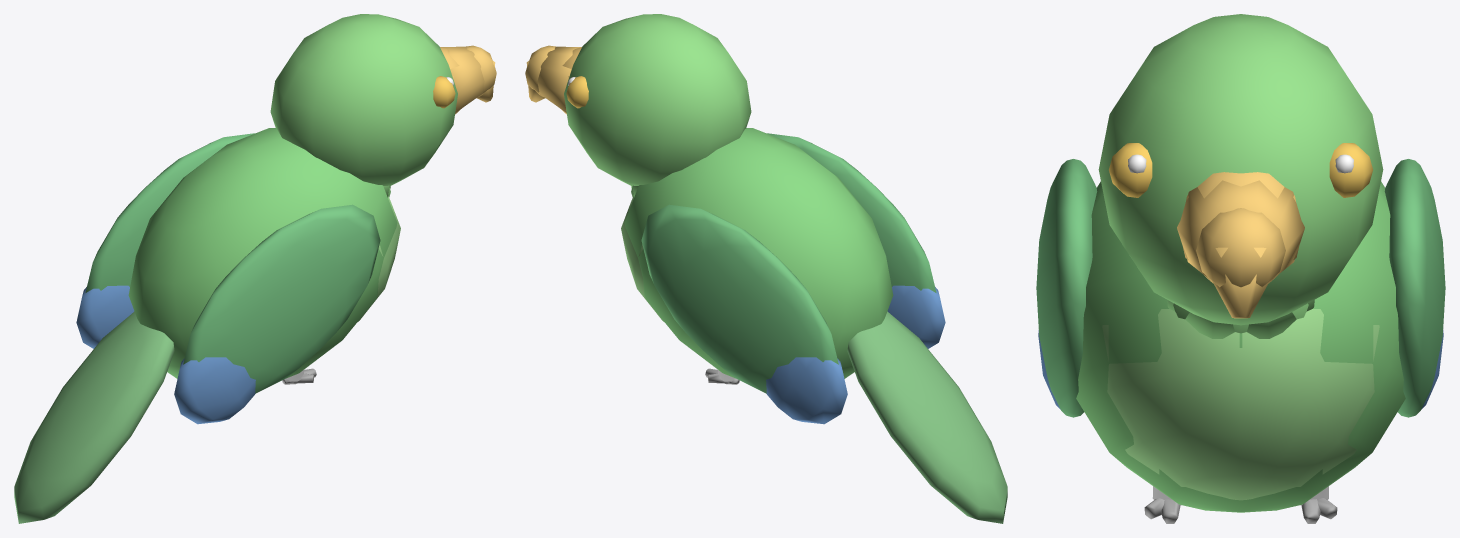
Rendered from papuan-eclectus.glb.
The picture shows the model from 3 angles, left to right: view 1: azimuth 30°, elevation 25°; view 2: azimuth 150°, elevation 25°; view 3: azimuth 270°, elevation 25°; orthographic projection. The views are drawn at different scales.
Parts seen in each view (by area): view 1: e, e.009, e.002, e.004; view 2: e, e.009, e.004, e.002; view 3: e.009, e, e.002, e.004, e.007, limb, limb.004.
Boxes of the visible parts, left/top/right/bottom form: e: left=14, top=128, right=400, bottom=523; e.009: left=270, top=14, right=496, bottom=186; e.002: left=174, top=204, right=380, bottom=424; e.004: left=76, top=133, right=254, bottom=348; e: left=621, top=128, right=1007, bottom=523; e.009: left=525, top=14, right=751, bottom=186; e.004: left=641, top=204, right=847, bottom=424; e.002: left=767, top=133, right=945, bottom=348; e.009: left=1098, top=14, right=1383, bottom=325; e: left=1076, top=181, right=1405, bottom=512; e.002: left=1036, top=159, right=1097, bottom=417; e.004: left=1384, top=159, right=1445, bottom=417; e.007: left=1167, top=300, right=1314, bottom=338; limb: left=1144, top=486, right=1181, bottom=523; limb.004: left=1300, top=486, right=1337, bottom=523.
Size of the model in its own units: 0.506 by 0.4247 by 0.22.
